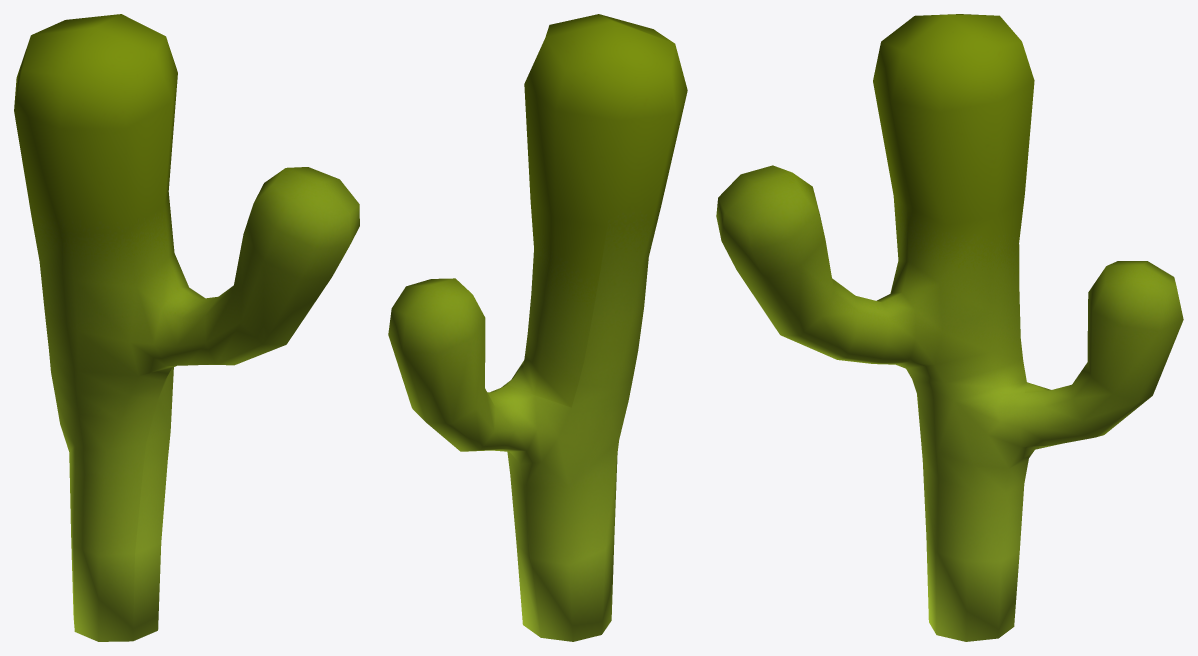
Rendered from Cactus.fbx.
3 renders of one model, left to right at view 1: azimuth 30°, elevation 25°; view 2: azimuth 150°, elevation 25°; view 3: azimuth 270°, elevation 25°, orthographic. The views are drawn at different scales.
Visible parts, largest first — view 1: Cactus.001; view 2: Cactus.001; view 3: Cactus.001.
Part boxes in pixels (<box>): Cactus.001: <box>14,14,359,641</box>; Cactus.001: <box>388,14,687,641</box>; Cactus.001: <box>716,14,1183,641</box>.
Size of the model in its own units: 50.44 by 125 by 88.95.
Materials: 1 (1 with a texture image).
